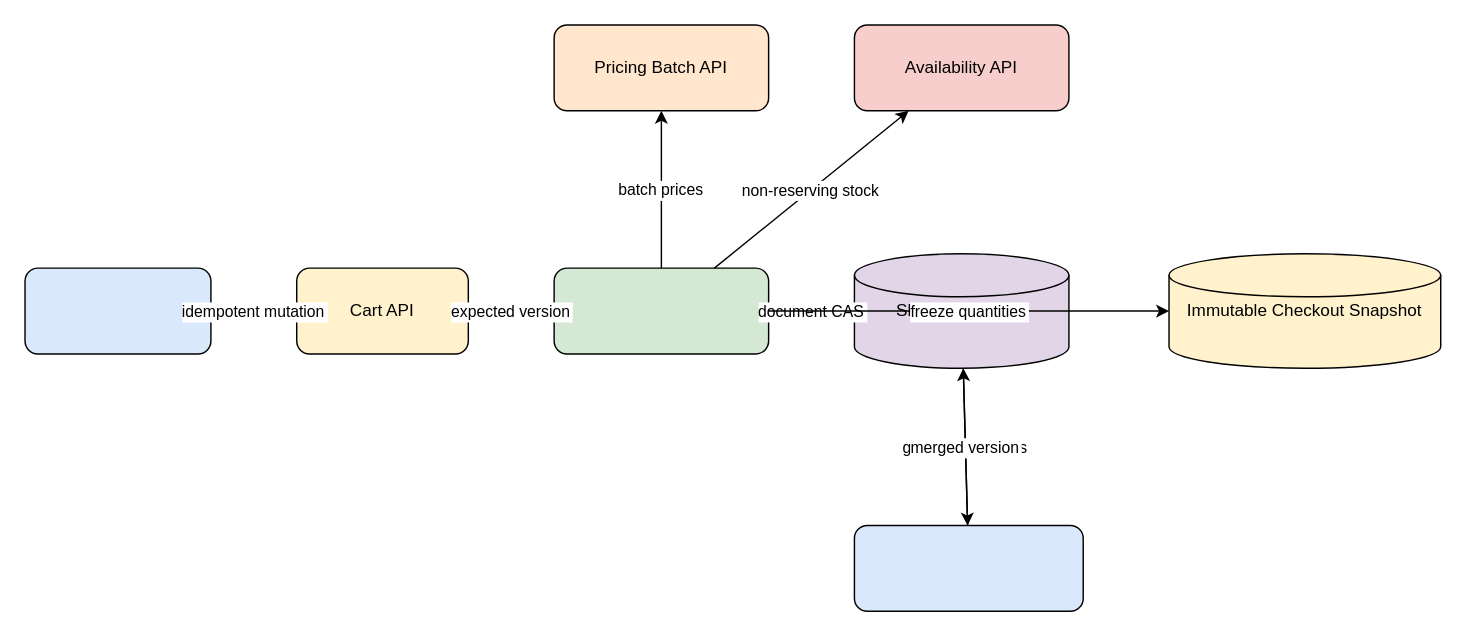
Image size: 1466x636. Some labels were removed from this diagram. Here are the shapes that lost their labels. From the top down, the box of each, then its label:
(24, 267, 211, 354): Web / Mobile
(553, 267, 769, 354): Cart Service + CAS
(853, 524, 1083, 611): Guest Merge Worker
